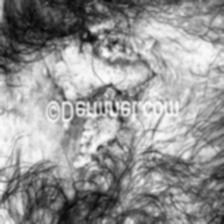Toxin: (97, 28, 150, 77), (72, 136, 108, 170)
